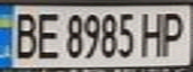5: (115, 9, 139, 58)
8: (60, 10, 84, 60), (100, 10, 121, 60)
9: (81, 10, 103, 60)
B: (6, 8, 42, 61)
E: (33, 8, 63, 61)
H: (136, 9, 169, 57)
P: (157, 8, 190, 57)
